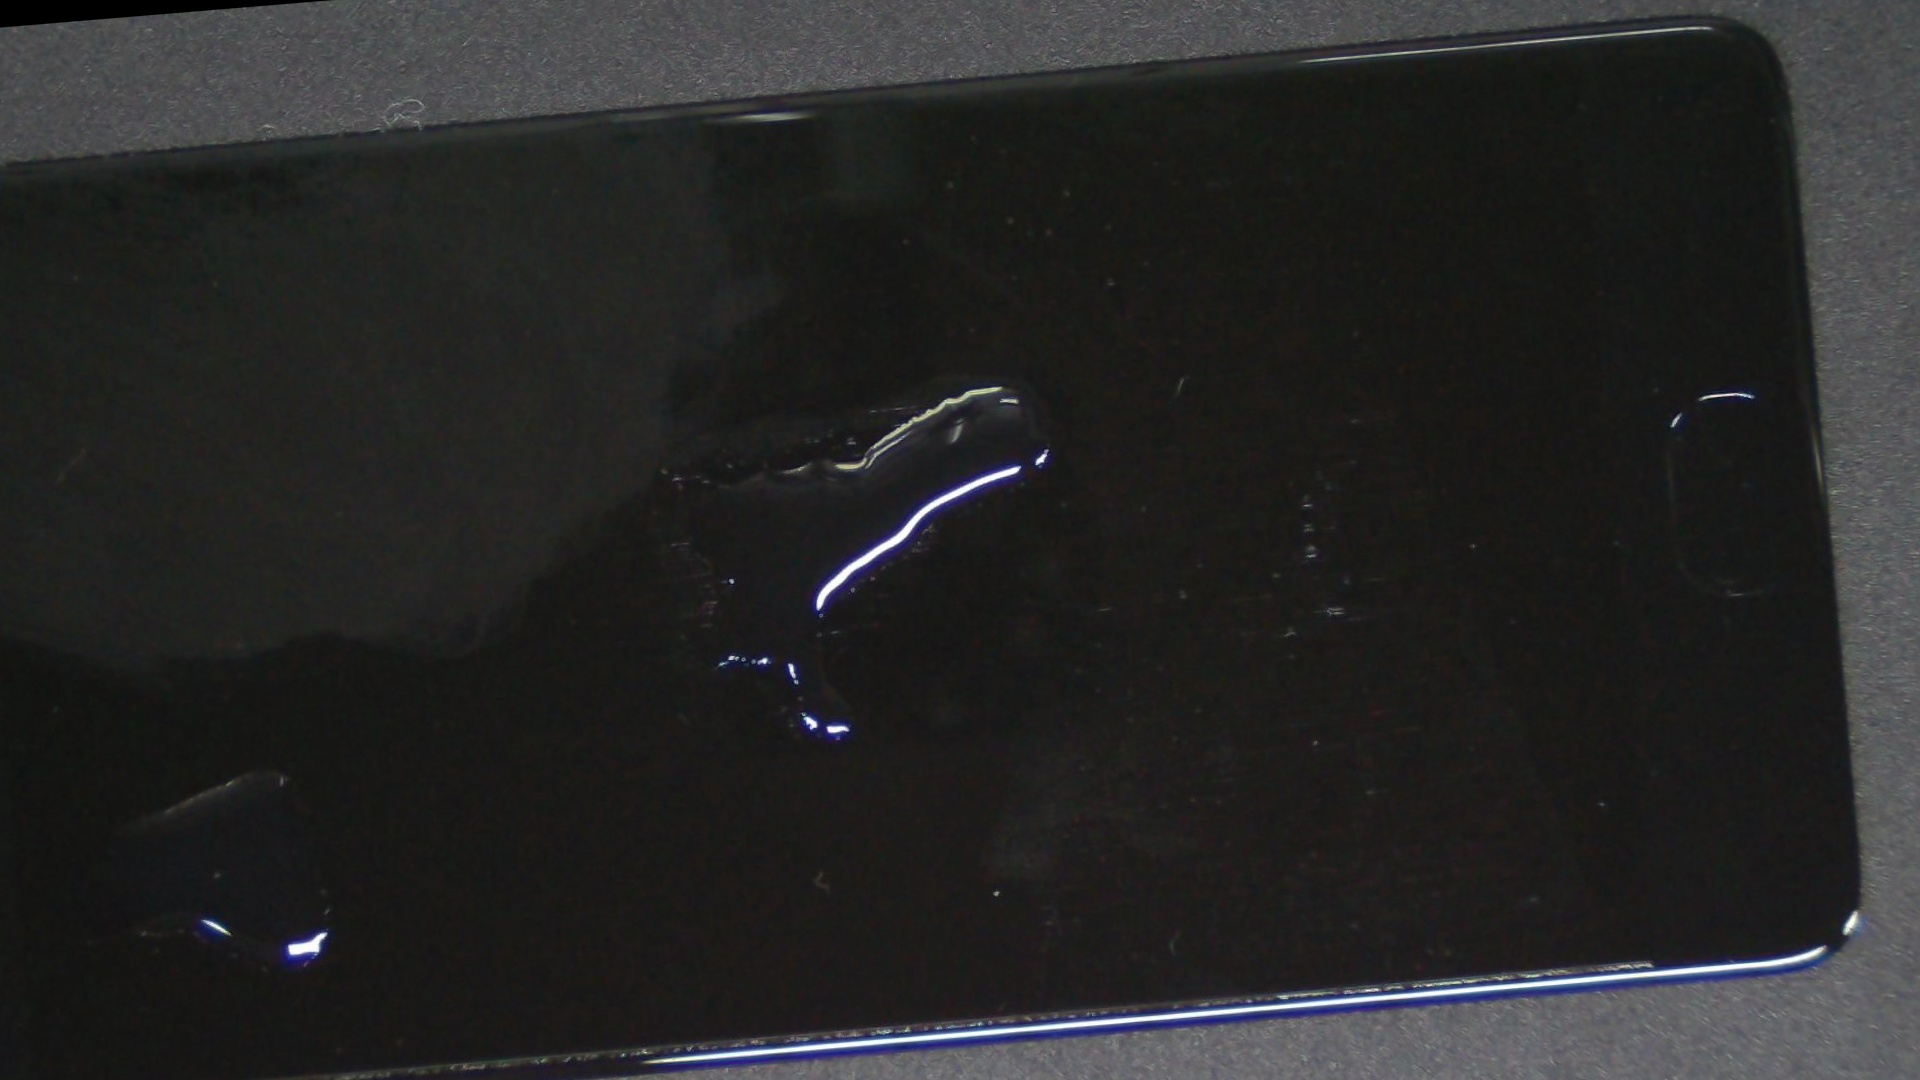oil: (364, 113, 1633, 651), (0, 369, 531, 1080)
